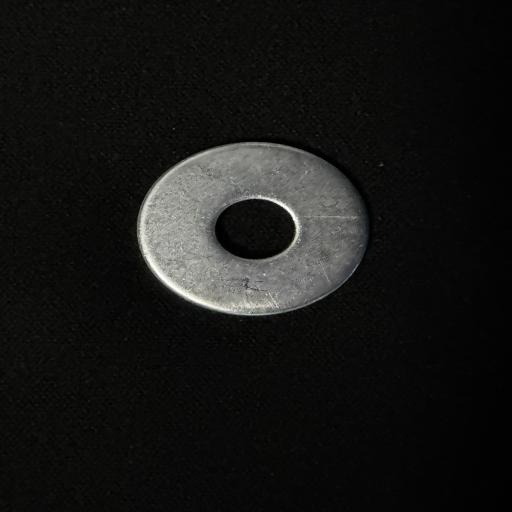Product: (137, 142, 369, 315)
Scratch: (296, 209, 364, 227)
surface damage: (223, 272, 270, 297)
